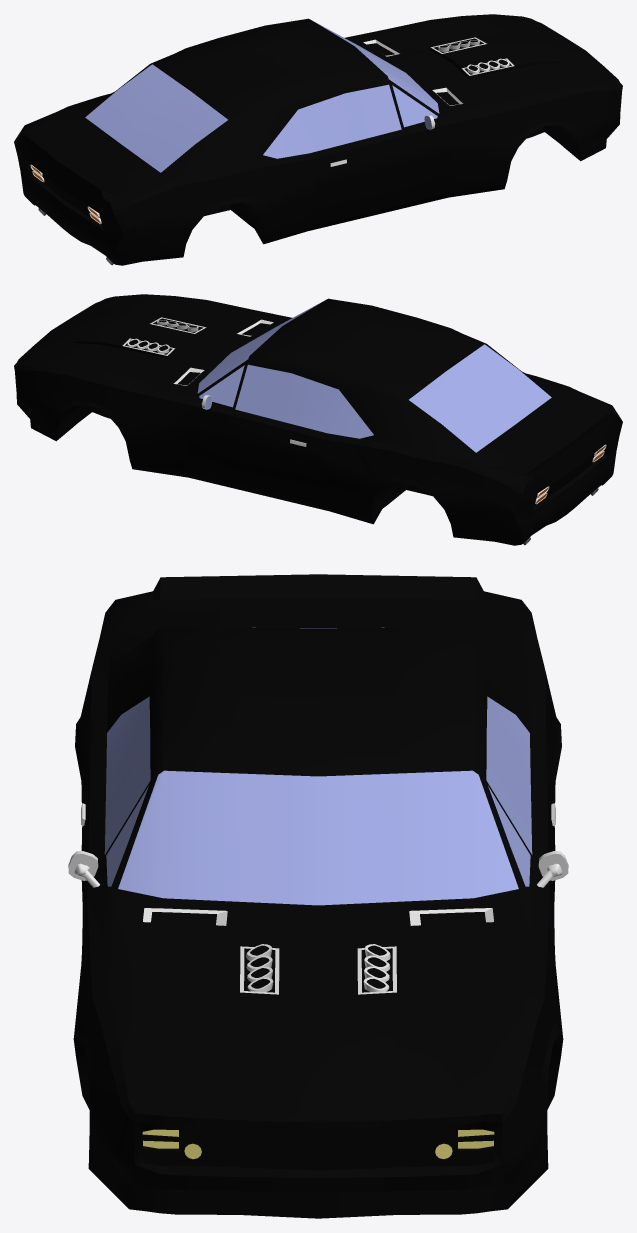
File: CC96_Body_3.fbx
The picture shows the model from 3 angles, top to bottom: view 1: azimuth 30°, elevation 25°; view 2: azimuth 150°, elevation 25°; view 3: azimuth 270°, elevation 25°; orthographic projection. The views are drawn at different scales.
Visible parts, largest first — view 1: Cube; view 2: Cube; view 3: Cube.
Boxes of the visible parts, <box> form: Cube: <box>14,14,622,265</box>; Cube: <box>14,294,622,545</box>; Cube: <box>68,574,568,1218</box>.
Size of the model in its own units: 346 by 82.39 by 142.
